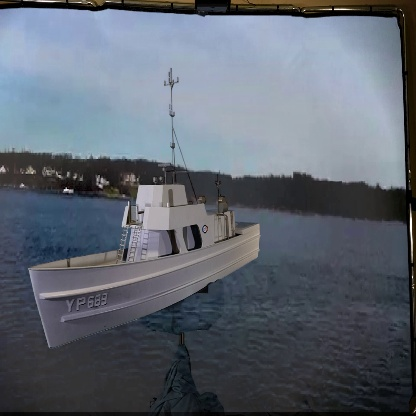YP689: (26, 67, 261, 353)
